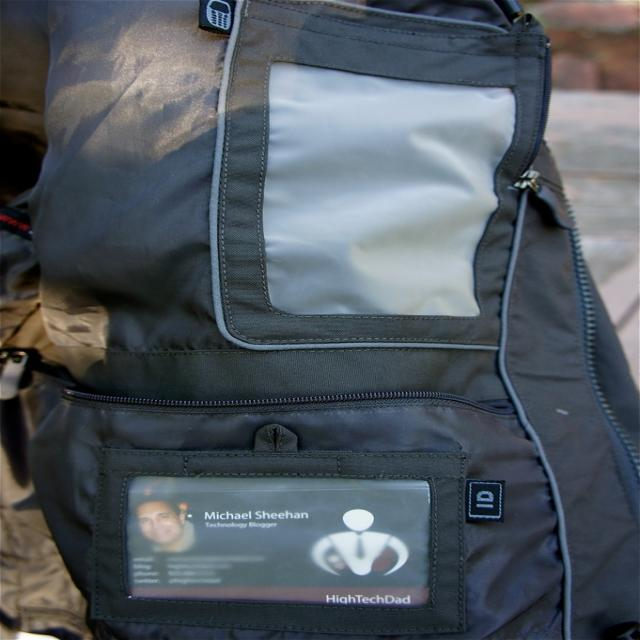backpack: (38, 4, 638, 636)
